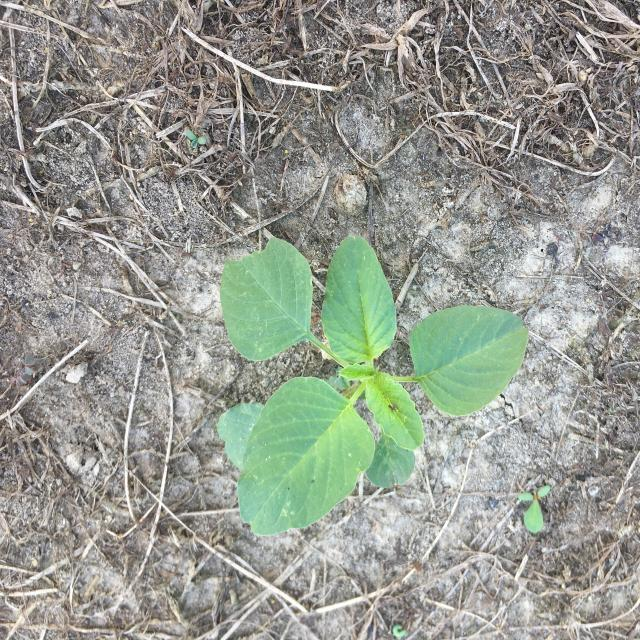Carpetweed: (518, 485, 551, 533)
PalmerAmaranth: (217, 235, 530, 535)
